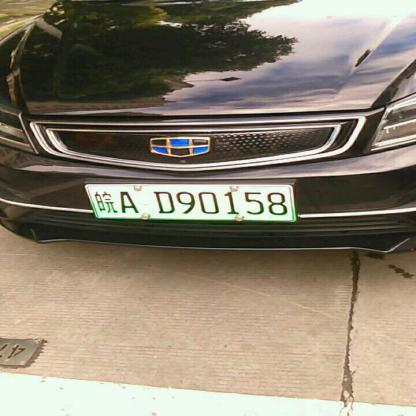lp: (88, 186, 292, 219)
